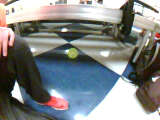Ball: (68, 47, 78, 59)
